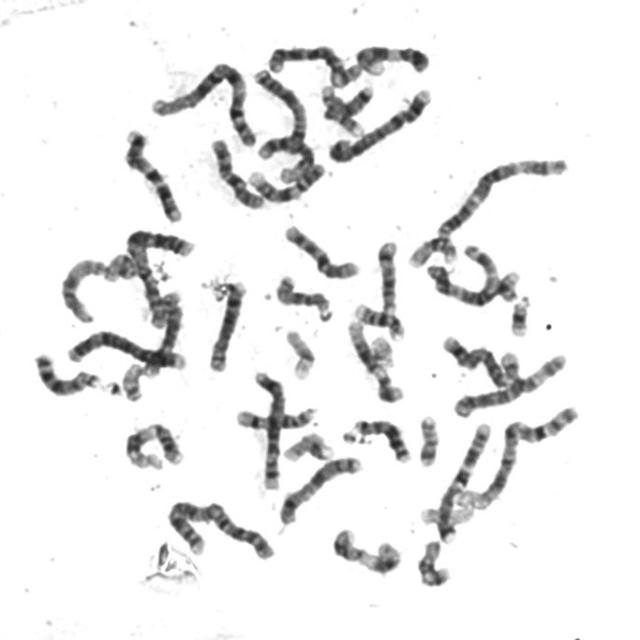A1: (455, 398, 584, 512), (146, 54, 261, 148)
A2: (120, 220, 200, 328), (161, 492, 279, 562)
A3: (431, 149, 574, 240), (424, 236, 504, 308)
B4: (324, 82, 436, 165), (61, 322, 189, 373)
B5: (249, 363, 289, 491), (439, 332, 519, 387)
C10: (279, 218, 365, 281), (205, 131, 269, 211)
C11: (328, 522, 405, 576), (120, 416, 188, 472)
C12: (343, 312, 409, 405), (139, 289, 187, 380)
C6: (448, 356, 572, 419), (267, 43, 360, 89)
C7: (431, 416, 495, 540), (118, 122, 187, 224)
C8: (204, 273, 251, 374), (252, 130, 318, 181)
C9: (244, 155, 329, 206), (350, 37, 435, 77)
D13: (30, 346, 107, 397), (344, 411, 414, 464)
D14: (230, 399, 322, 431), (373, 234, 403, 316)
D15: (56, 251, 111, 325), (271, 268, 337, 323)
E16: (348, 296, 408, 342), (404, 230, 461, 269)
E17: (315, 80, 366, 138), (278, 428, 340, 464)
E18: (318, 79, 377, 122), (414, 534, 454, 588)
F19: (281, 322, 321, 382), (417, 498, 479, 525)
F20: (413, 408, 443, 468), (100, 254, 142, 284)
G21: (506, 288, 535, 338), (491, 264, 524, 303)
G22: (117, 356, 148, 404), (366, 328, 398, 370)
X: (274, 449, 366, 526), (246, 71, 306, 153)
